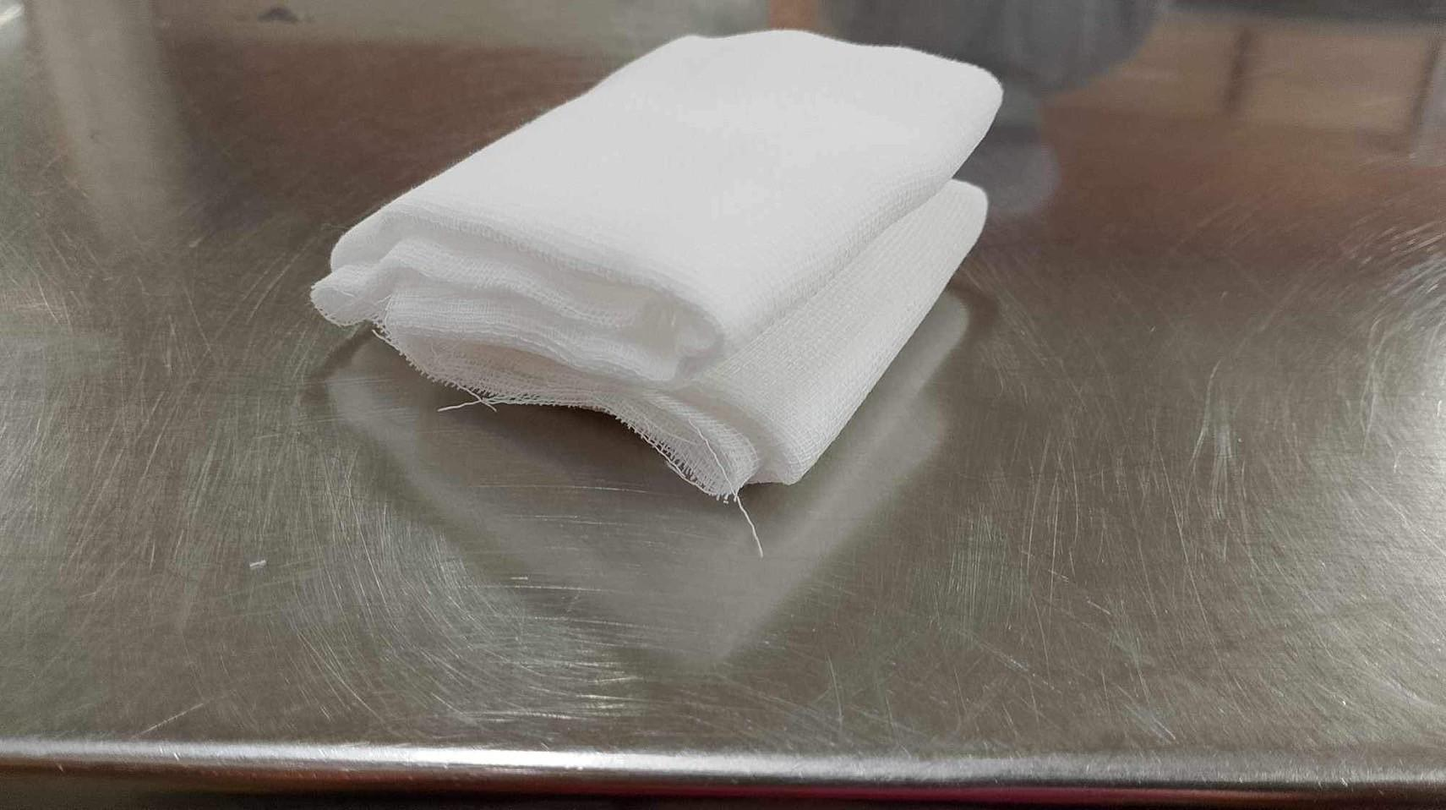General: (4, 5, 1439, 802)
Infectious: (308, 25, 1005, 551)
